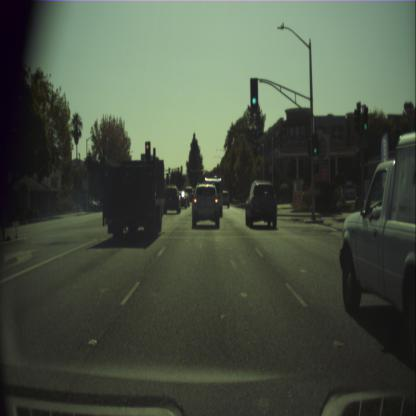Green: (250, 77, 258, 108), (312, 132, 318, 156), (363, 106, 368, 131)
Red: (200, 168, 202, 173)
RedLeft: (145, 141, 150, 160)
Yellow: (190, 168, 192, 173)
